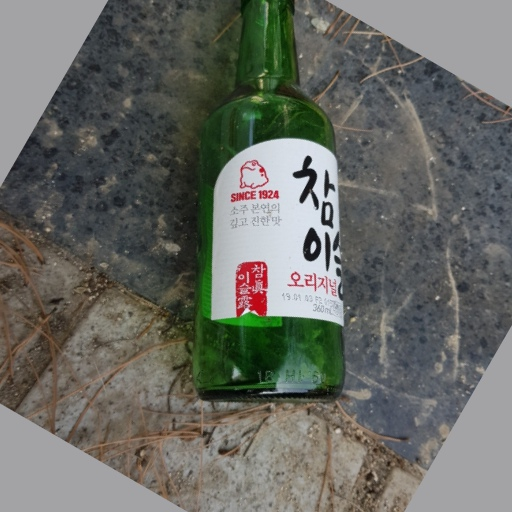Glass_0: (191, 2, 350, 401)
